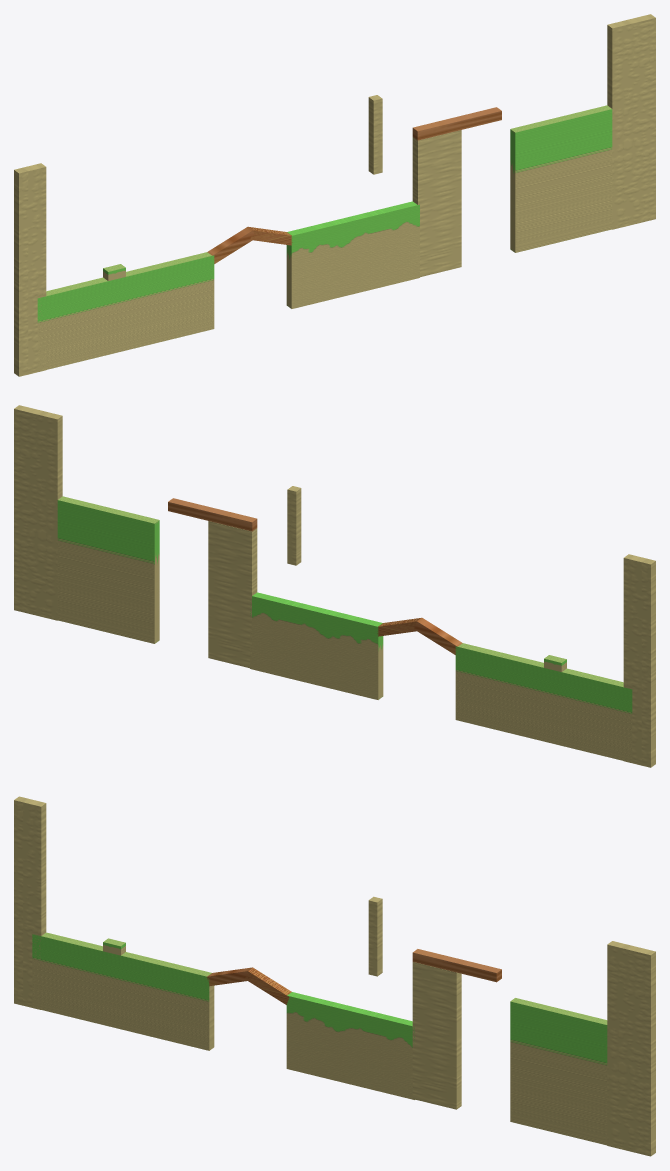
Rendered from stage1.fbx.
3 renders of one model, top to bottom at view 1: azimuth 30°, elevation 25°; view 2: azimuth 150°, elevation 25°; view 3: azimuth 330°, elevation 25°, orthographic.
Visible parts, largest first — view 1: pCube1, pCube10, pCube13, pCube12, pCube3, pCube7, pCube14, pCube8, pCube4, pCube5; view 2: pCube1, pCube10, pCube13, pCube12, pCube7, pCube3, pCube14, pCube8, pCube4; view 3: pCube1, pCube10, pCube12, pCube13, pCube7, pCube3, pCube14, pCube8, pCube5, pCube4.
Part boxes in pixels (box(x1,y1,x2,y2)): pCube1: box(37, 252, 214, 371); pCube10: box(510, 105, 612, 252); pCube13: box(286, 201, 419, 308); pCube12: box(607, 14, 655, 229); pCube3: box(14, 163, 46, 376); pCube7: box(412, 130, 461, 277); pCube14: box(412, 107, 501, 140); pCube8: box(368, 95, 382, 174); pCube4: box(207, 227, 254, 263); pCube5: box(249, 227, 292, 245); pCube1: box(455, 643, 632, 762); pCube10: box(57, 496, 159, 643); pCube13: box(250, 592, 383, 699); pCube12: box(14, 405, 62, 620); pCube7: box(208, 521, 257, 668); pCube3: box(623, 554, 655, 767); pCube14: box(168, 498, 257, 531); pCube8: box(287, 486, 301, 565); pCube4: box(414, 618, 462, 654); pCube1: box(32, 932, 214, 1050); pCube10: box(510, 998, 607, 1145); pCube12: box(607, 941, 655, 1156); pCube13: box(286, 992, 415, 1099); pCube7: box(412, 962, 461, 1109); pCube3: box(14, 796, 46, 1009); pCube14: box(412, 949, 501, 982); pCube8: box(368, 896, 382, 976); pCube5: box(245, 967, 291, 1004); pCube4: box(206, 967, 252, 986).
Bounding box in the file's own units: 72 × 22 × 1.
